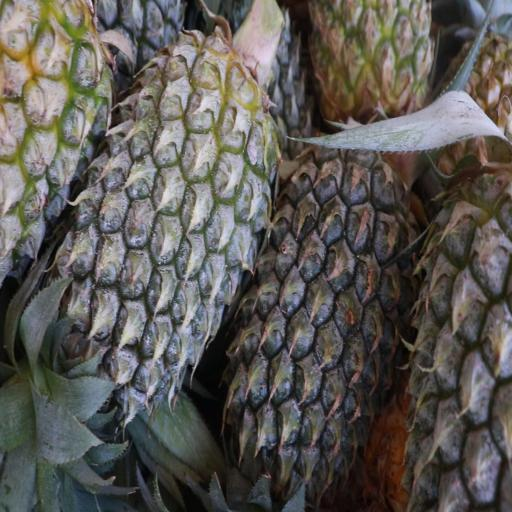------------------------------: (0, 0, 114, 259), (314, 0, 427, 121)
